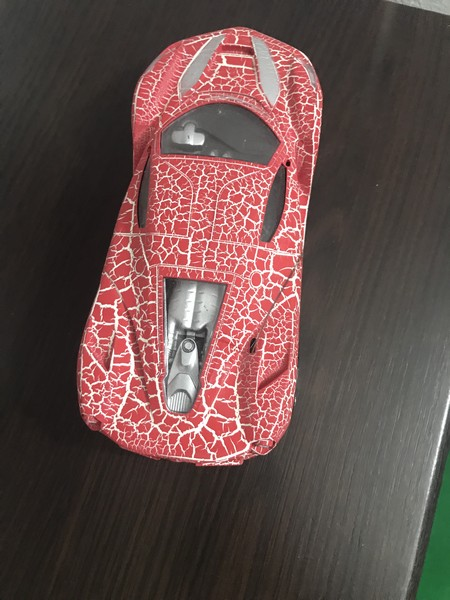RC: (71, 21, 326, 471)
